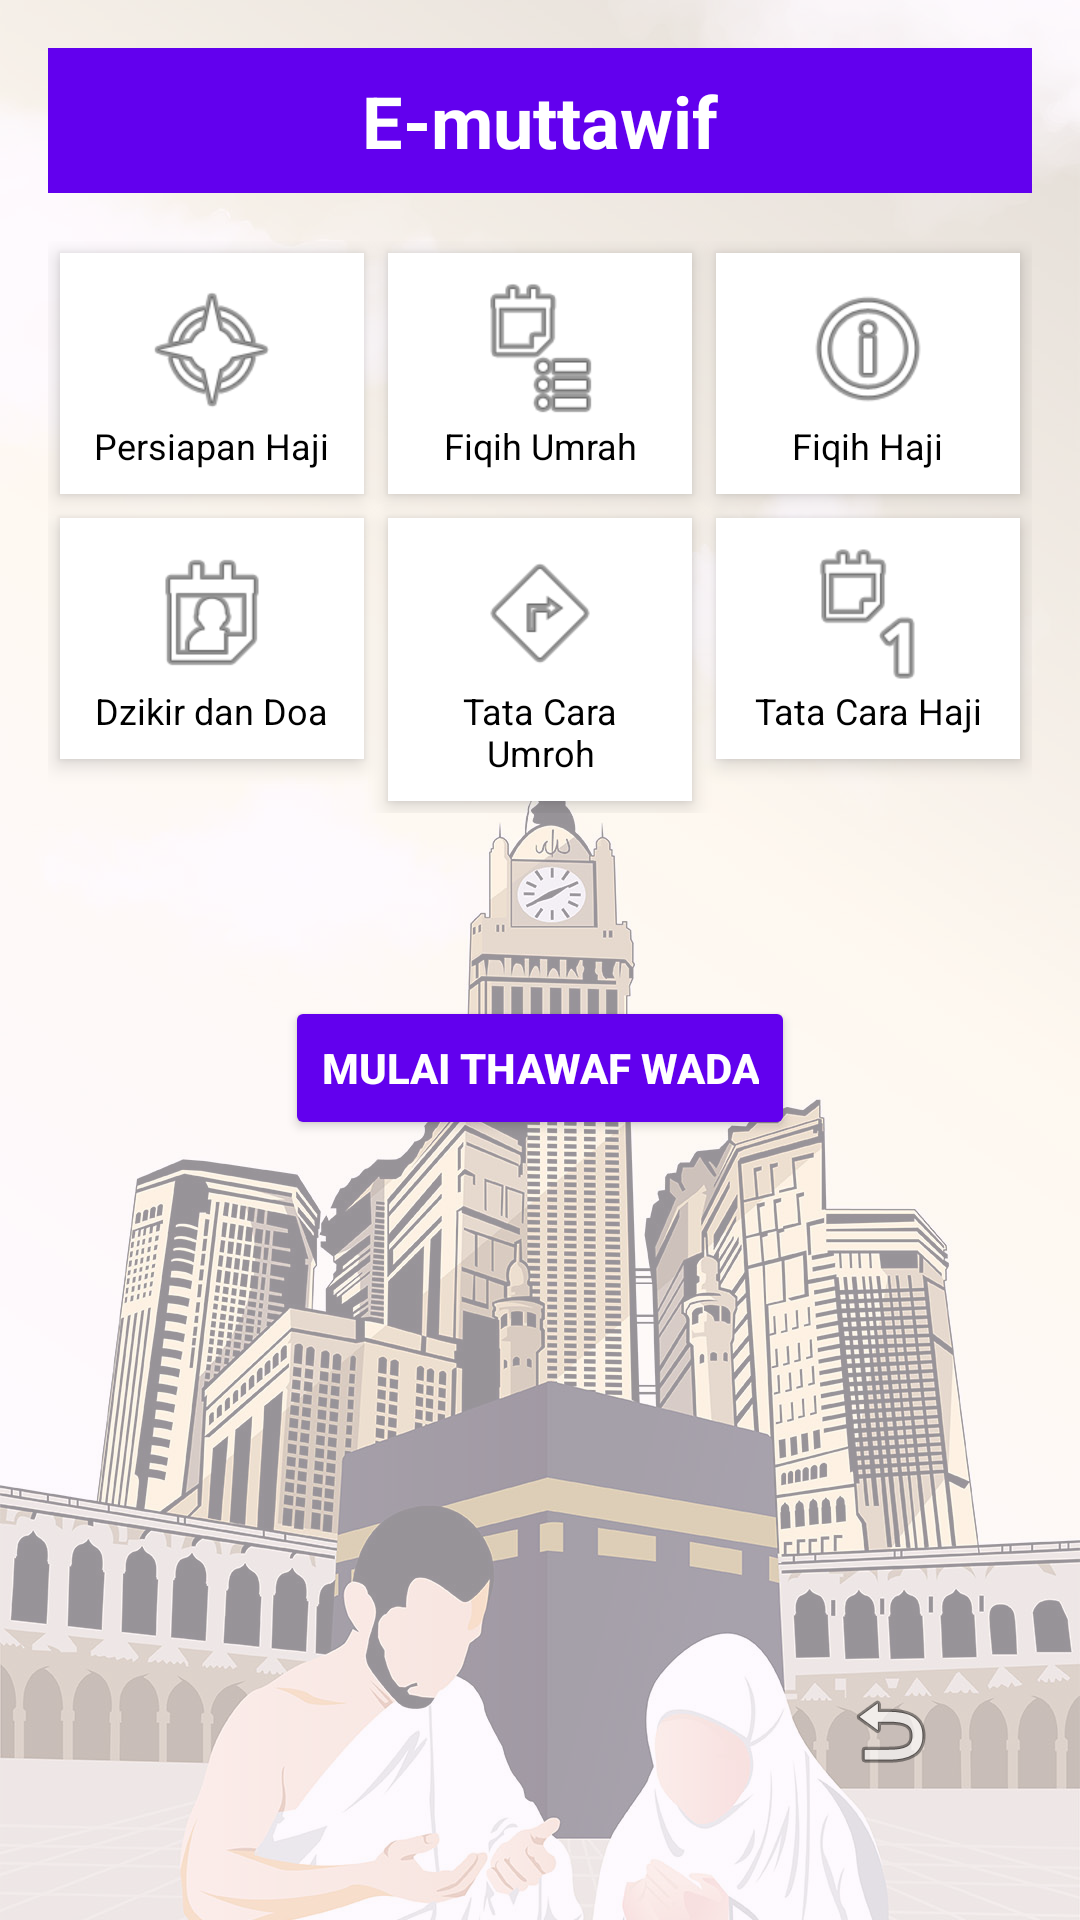

Point at icon controls on the screen. Image size 1080x1920, points as point (x, y).
agenda: point (540, 348)
calendar: point (212, 612)
compass: point (212, 350)
day: point (867, 614)
directions: point (540, 613)
info details: point (868, 349)
